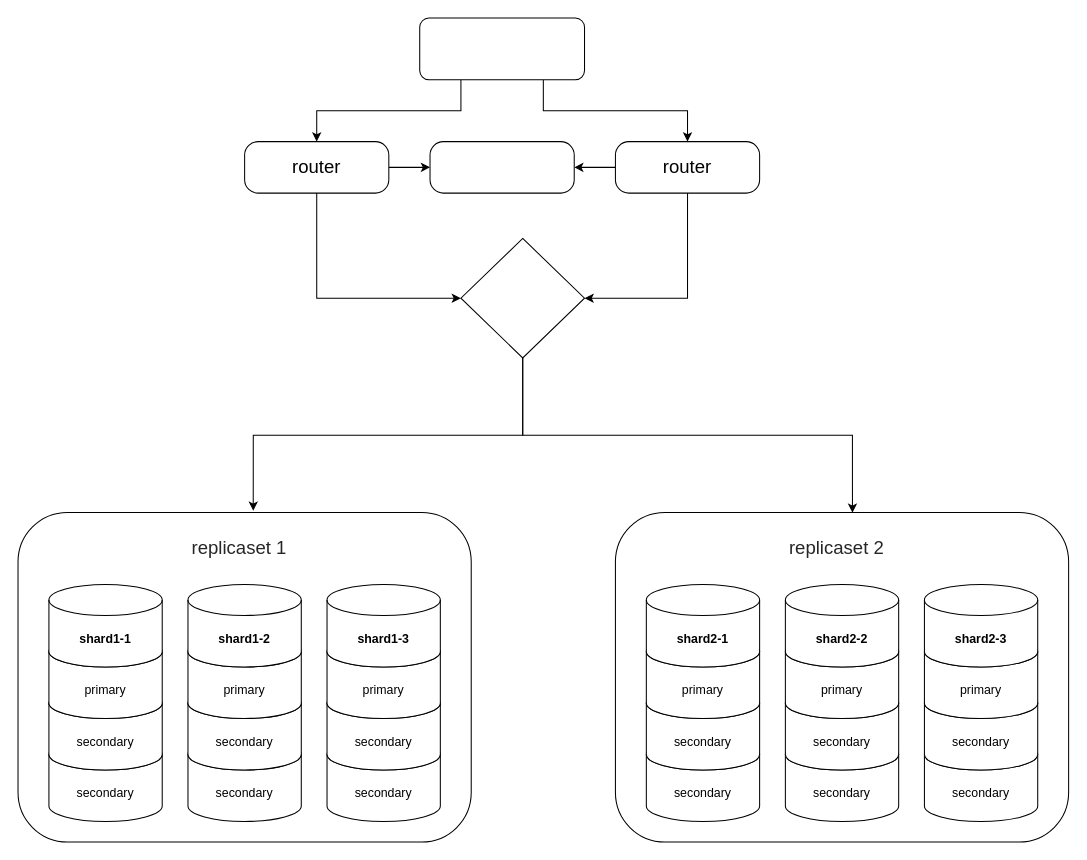
Image size: 1087x860. Some labels were removed from this diagram. Each missing label, with the centre of its shape:
"configServer" belongs at (x=501, y=167).
"pymongo-api" belongs at (x=502, y=48).
"redis" belongs at (x=522, y=297).
